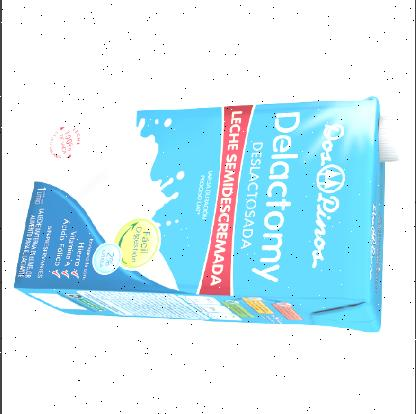Others: (10, 89, 404, 333)
